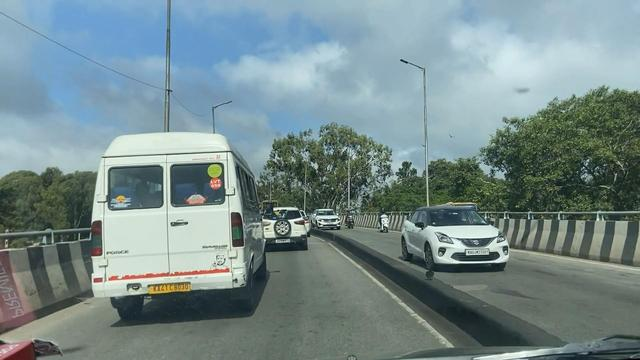HMV: (90, 134, 267, 307)
LMV: (264, 205, 308, 249)
